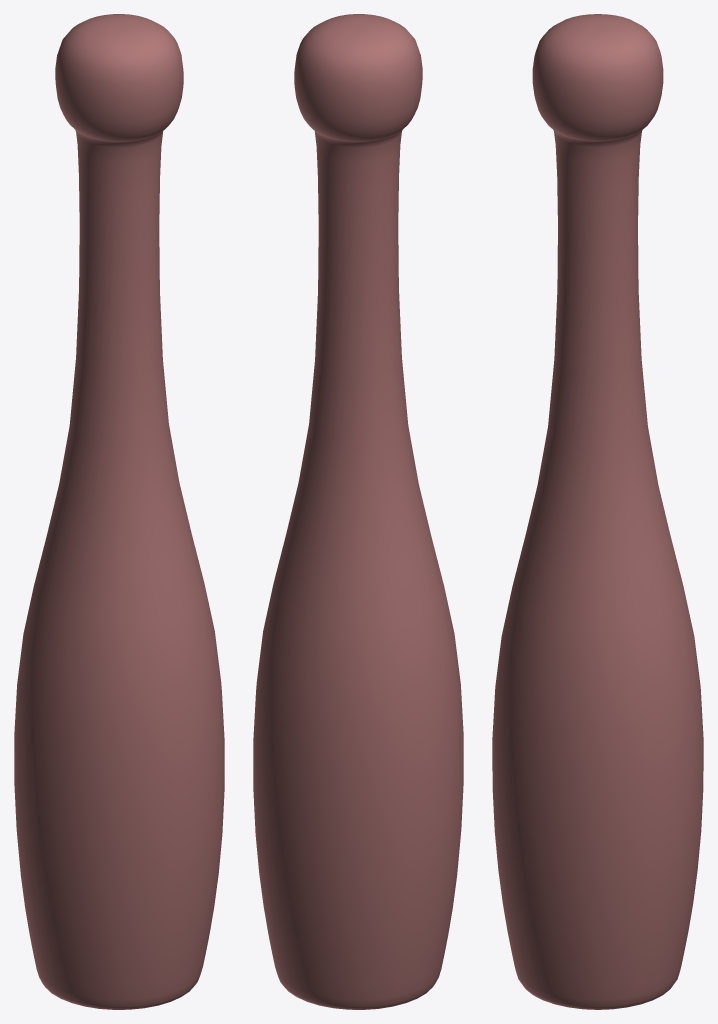
The model's file is JUGGLING BAT.fbx.
The picture shows the model from 3 angles, left to right: view 1: azimuth 30°, elevation 25°; view 2: azimuth 150°, elevation 25°; view 3: azimuth 270°, elevation 25°; orthographic projection.
Visible parts, largest first — view 1: JUGGLE_BAT; view 2: JUGGLE_BAT; view 3: JUGGLE_BAT.
Part boxes in pixels (x1,y1,x2,y2): JUGGLE_BAT: [14, 14, 224, 1009]; JUGGLE_BAT: [253, 14, 463, 1009]; JUGGLE_BAT: [492, 14, 703, 1009].
Size of the model in its own units: 0.039 by 0.1949 by 0.039.
